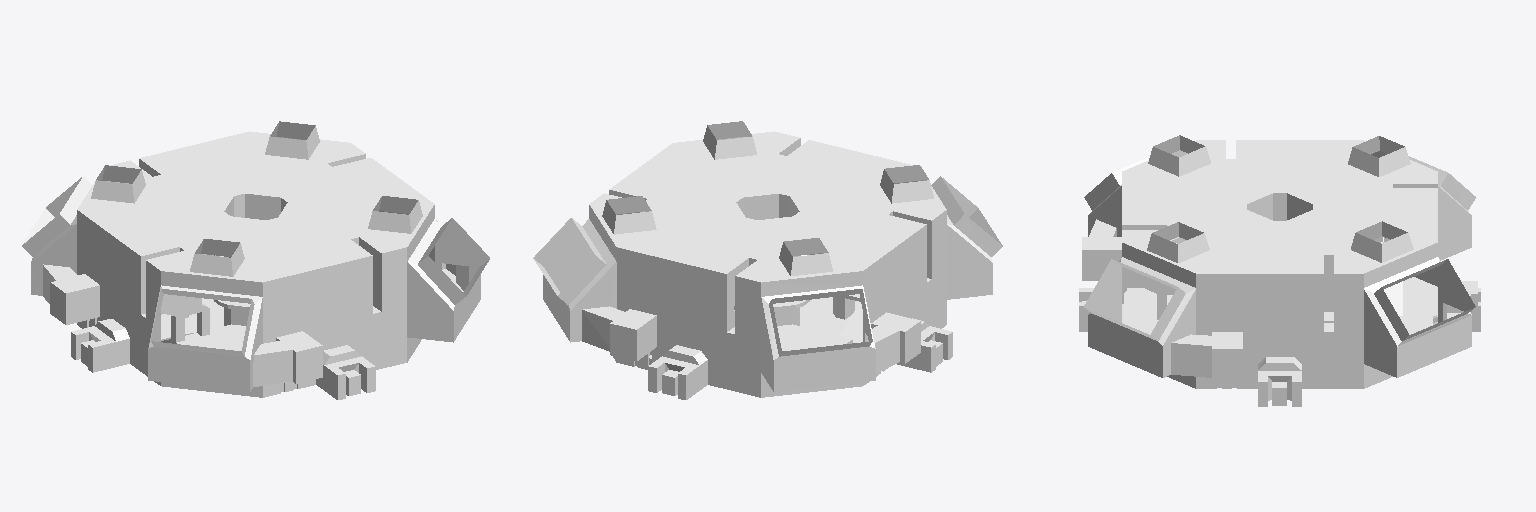
File: wizard.obj
3 views of the same model, side by side, from view 1: azimuth 30°, elevation 25°; view 2: azimuth 150°, elevation 25°; view 3: azimuth 270°, elevation 25° (orthographic).
Parts seen in each view (by area): view 1: -000, -004, -006, -001, -003, -008, -007, -002; view 2: -000, -005, -003, -001, -004, -008, -002; view 3: -000, -006, -005, -001, -004, -003, -009.
Boxes of the visible parts, <box> form: -000: <box>72,121,434,374</box>; -004: <box>148,285,322,391</box>; -006: <box>407,218,489,342</box>; -001: <box>77,256,372,397</box>; -003: <box>22,176,99,324</box>; -008: <box>71,332,129,372</box>; -007: <box>316,363,375,399</box>; -002: <box>161,324,245,350</box>; -000: <box>589,121,951,374</box>; -005: <box>533,218,656,361</box>; -003: <box>761,285,920,391</box>; -001: <box>648,181,946,399</box>; -004: <box>931,176,1002,299</box>; -008: <box>897,332,952,372</box>; -002: <box>840,294,862,342</box>; -000: <box>1079,135,1480,388</box>; -006: <box>1084,257,1242,380</box>; -005: <box>1364,257,1477,377</box>; -001: <box>1122,237,1480,387</box>; -004: <box>1082,157,1178,280</box>; -003: <box>1409,156,1475,260</box>; -009: <box>1258,376,1301,406</box>.
Size of the model in its own units: 64.25 by 23.37 by 64.25.